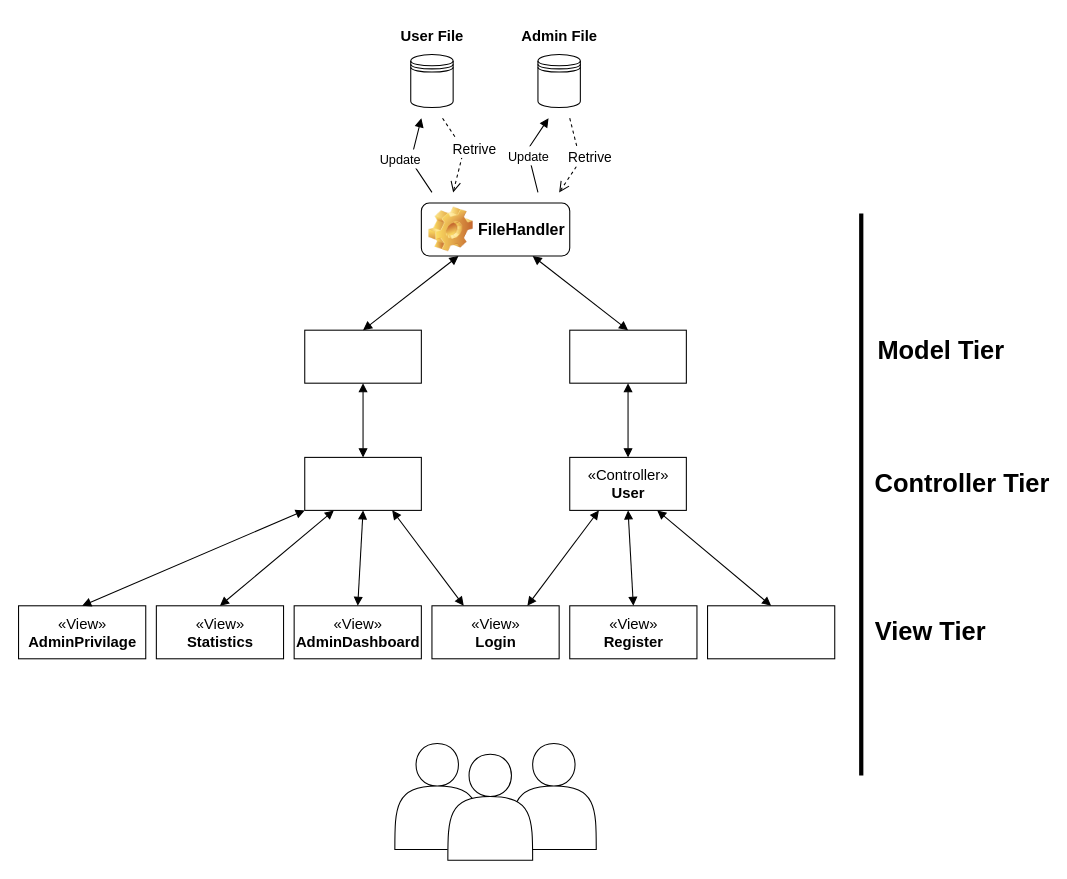
Some shapes in this 1067 by 879 pixel diagram are drawn without their labels. Here are the shapes that lost their labels. From the top down, the box of each, then its label:
(304, 329, 421, 383): «Model» Admin
(569, 329, 686, 383): «Model» User
(304, 456, 421, 510): «Controller» Admin
(706, 605, 835, 659): «View» UserProfile
